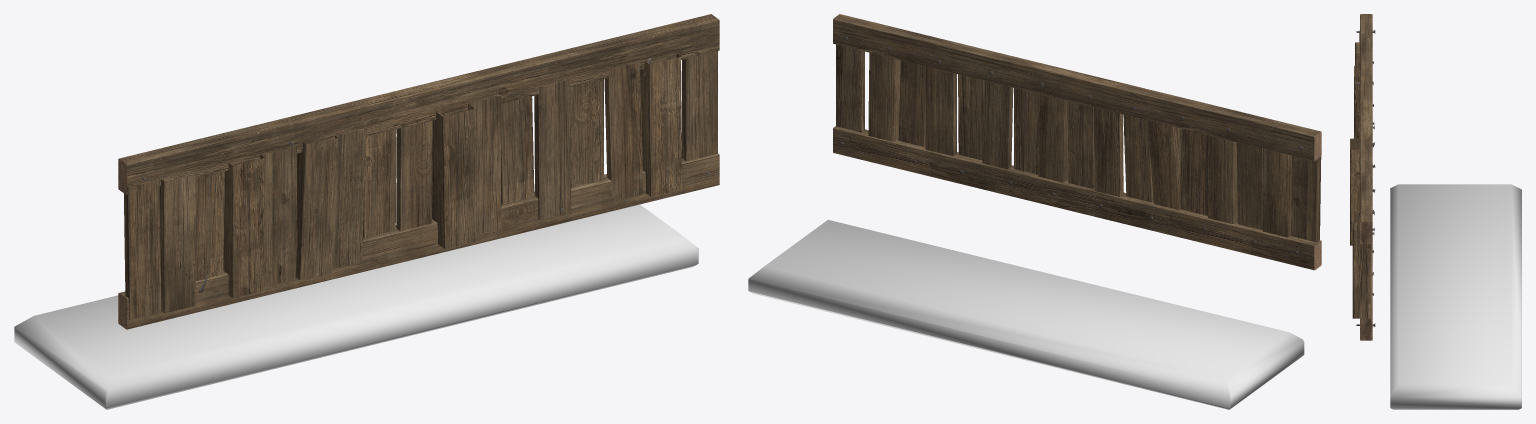
The model's file is SM_Wall_Decorative_A.fbx.
3 renders of one model, left to right at view 1: azimuth 30°, elevation 25°; view 2: azimuth 150°, elevation 25°; view 3: azimuth 270°, elevation 25°, orthographic. The views are drawn at different scales.
Visible parts, largest first — view 1: SM_Wall_Decorative_A, SM_Wall_Decorative_A_ConvexHulls; view 2: SM_Wall_Decorative_A, SM_Wall_Decorative_A_ConvexHulls; view 3: SM_Wall_Decorative_A_ConvexHulls, SM_Wall_Decorative_A.
Boxes of the visible parts, <box> form: SM_Wall_Decorative_A: <box>118,14,719,329</box>; SM_Wall_Decorative_A_ConvexHulls: <box>14,204,698,409</box>; SM_Wall_Decorative_A: <box>833,14,1321,270</box>; SM_Wall_Decorative_A_ConvexHulls: <box>748,219,1304,409</box>; SM_Wall_Decorative_A_ConvexHulls: <box>1390,184,1521,409</box>; SM_Wall_Decorative_A: <box>1350,14,1375,340</box>.
Bounding box in the file's own units: 3 × 1.27 × 1.05.
